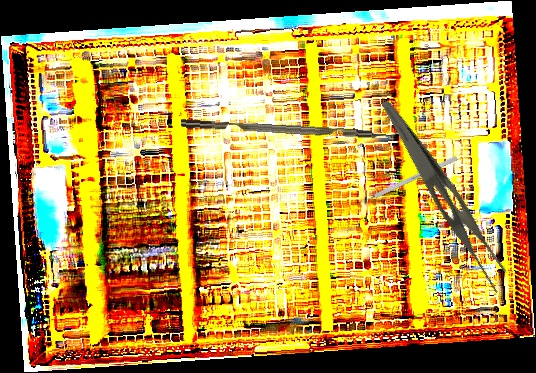Chopper: (180, 108, 407, 143)
Dressing Forceps: (360, 97, 523, 297)
Hook Surgical: (354, 155, 458, 208)
